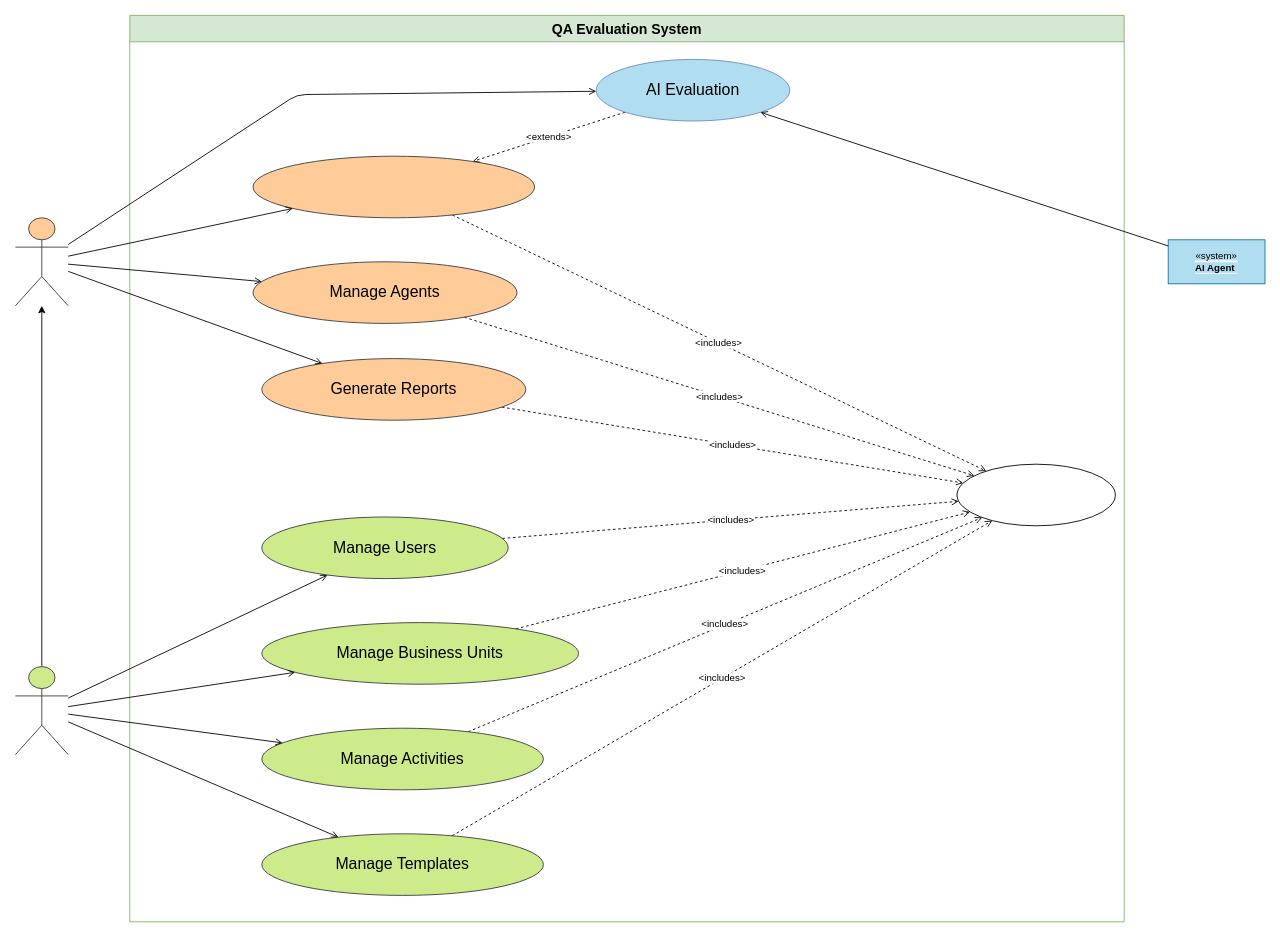
This 1280x937 diagram has some shape labels left out. The centre of each missing label's shape, as x and y in pixels:
"Admin" belongs at (41,710).
"Login" belongs at (1035,494).
"Manage Evaluation" belongs at (393,186).
"Manager" belongs at (41,261).
